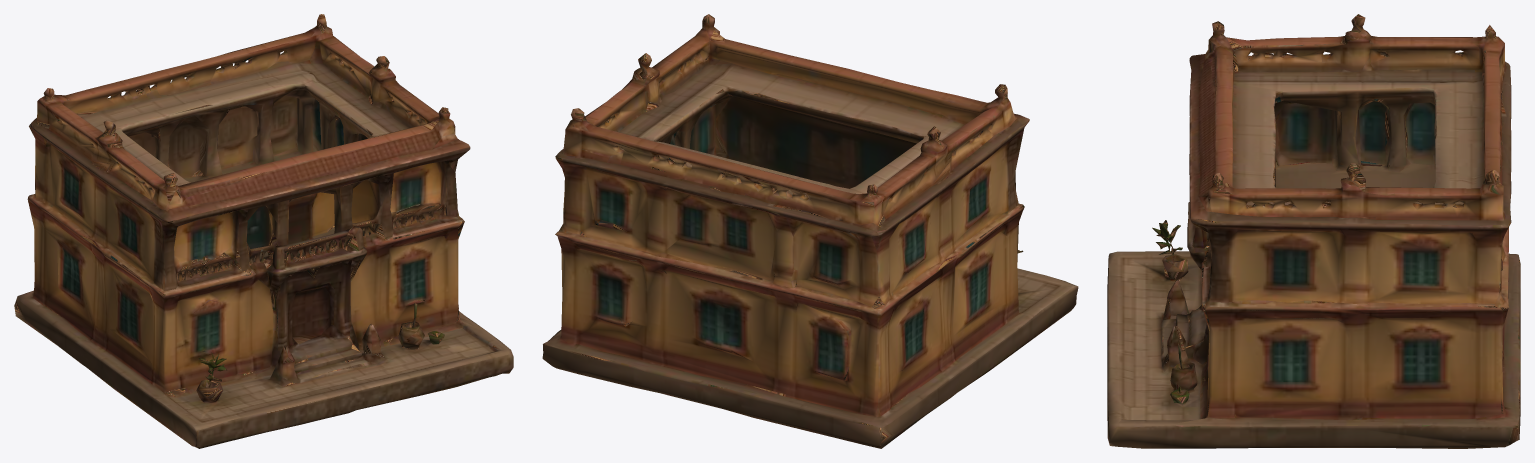
Rendered from haveli.glb.
The picture shows the model from 3 angles, left to right: view 1: azimuth 30°, elevation 25°; view 2: azimuth 150°, elevation 25°; view 3: azimuth 270°, elevation 25°; orthographic projection. The views are drawn at different scales.
Visible parts, largest first — view 1: tripo_node_6ad7bfdb; view 2: tripo_node_6ad7bfdb; view 3: tripo_node_6ad7bfdb.
Boxes of the visible parts, x1,y1,x2,y2 form: tripo_node_6ad7bfdb: (14,14,513,448); tripo_node_6ad7bfdb: (542,14,1078,448); tripo_node_6ad7bfdb: (1107,14,1520,448).
Bounding box in the file's own units: 97.94 × 71.3 × 97.73.
1 material, 1 textured.
